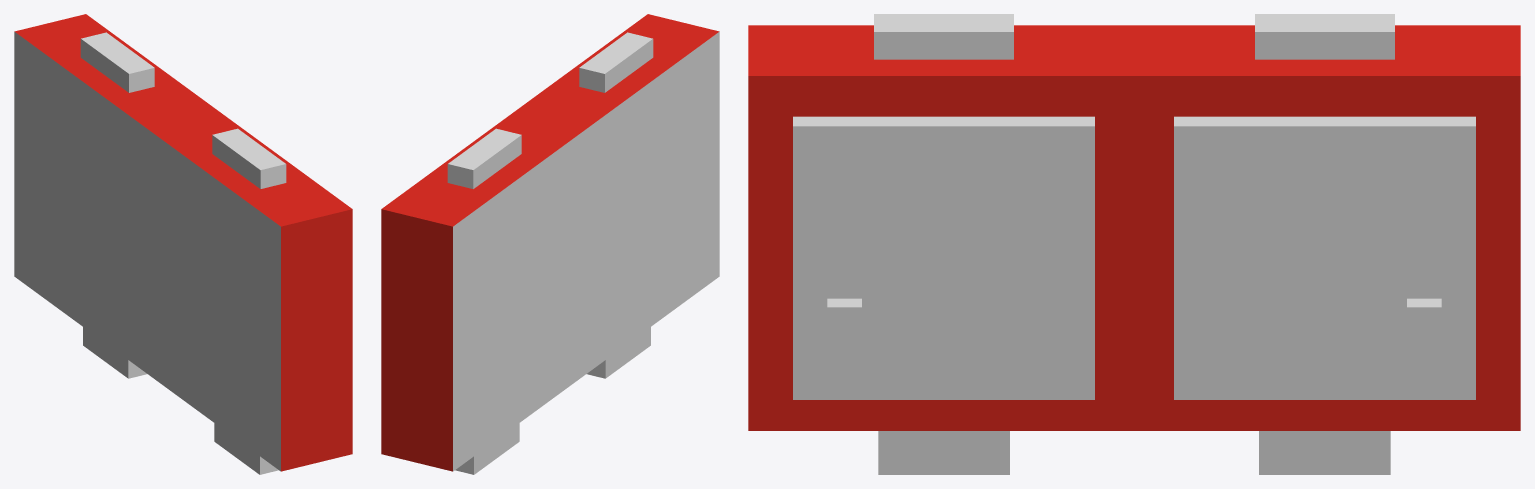
Rendered from Objetos_juego_terror_VR_BateriaPro.fbx.
The picture shows the model from 3 angles, left to right: view 1: azimuth 30°, elevation 25°; view 2: azimuth 150°, elevation 25°; view 3: azimuth 270°, elevation 25°; orthographic projection. The views are drawn at different scales.
Parts seen in each view (by area): view 1: Bateria_fuerte.002; view 2: Bateria_fuerte.002; view 3: Bateria_fuerte.002.
Boxes of the visible parts, left/top/right/bottom form: Bateria_fuerte.002: left=14, top=14, right=352, bottom=474; Bateria_fuerte.002: left=381, top=14, right=719, bottom=474; Bateria_fuerte.002: left=748, top=14, right=1520, bottom=474.
Size of the model in its own units: 31.16 by 107 by 168.
